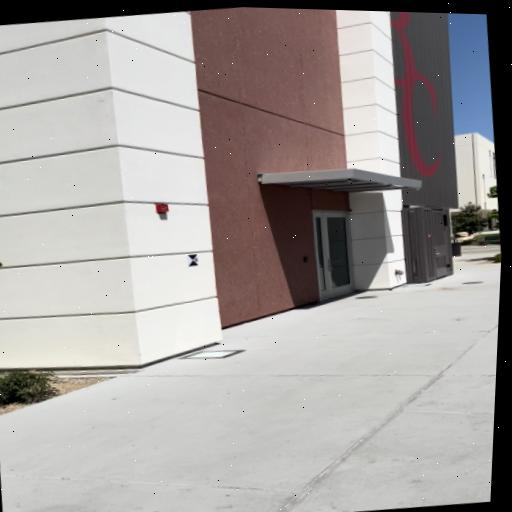target6: (187, 254, 198, 267)
